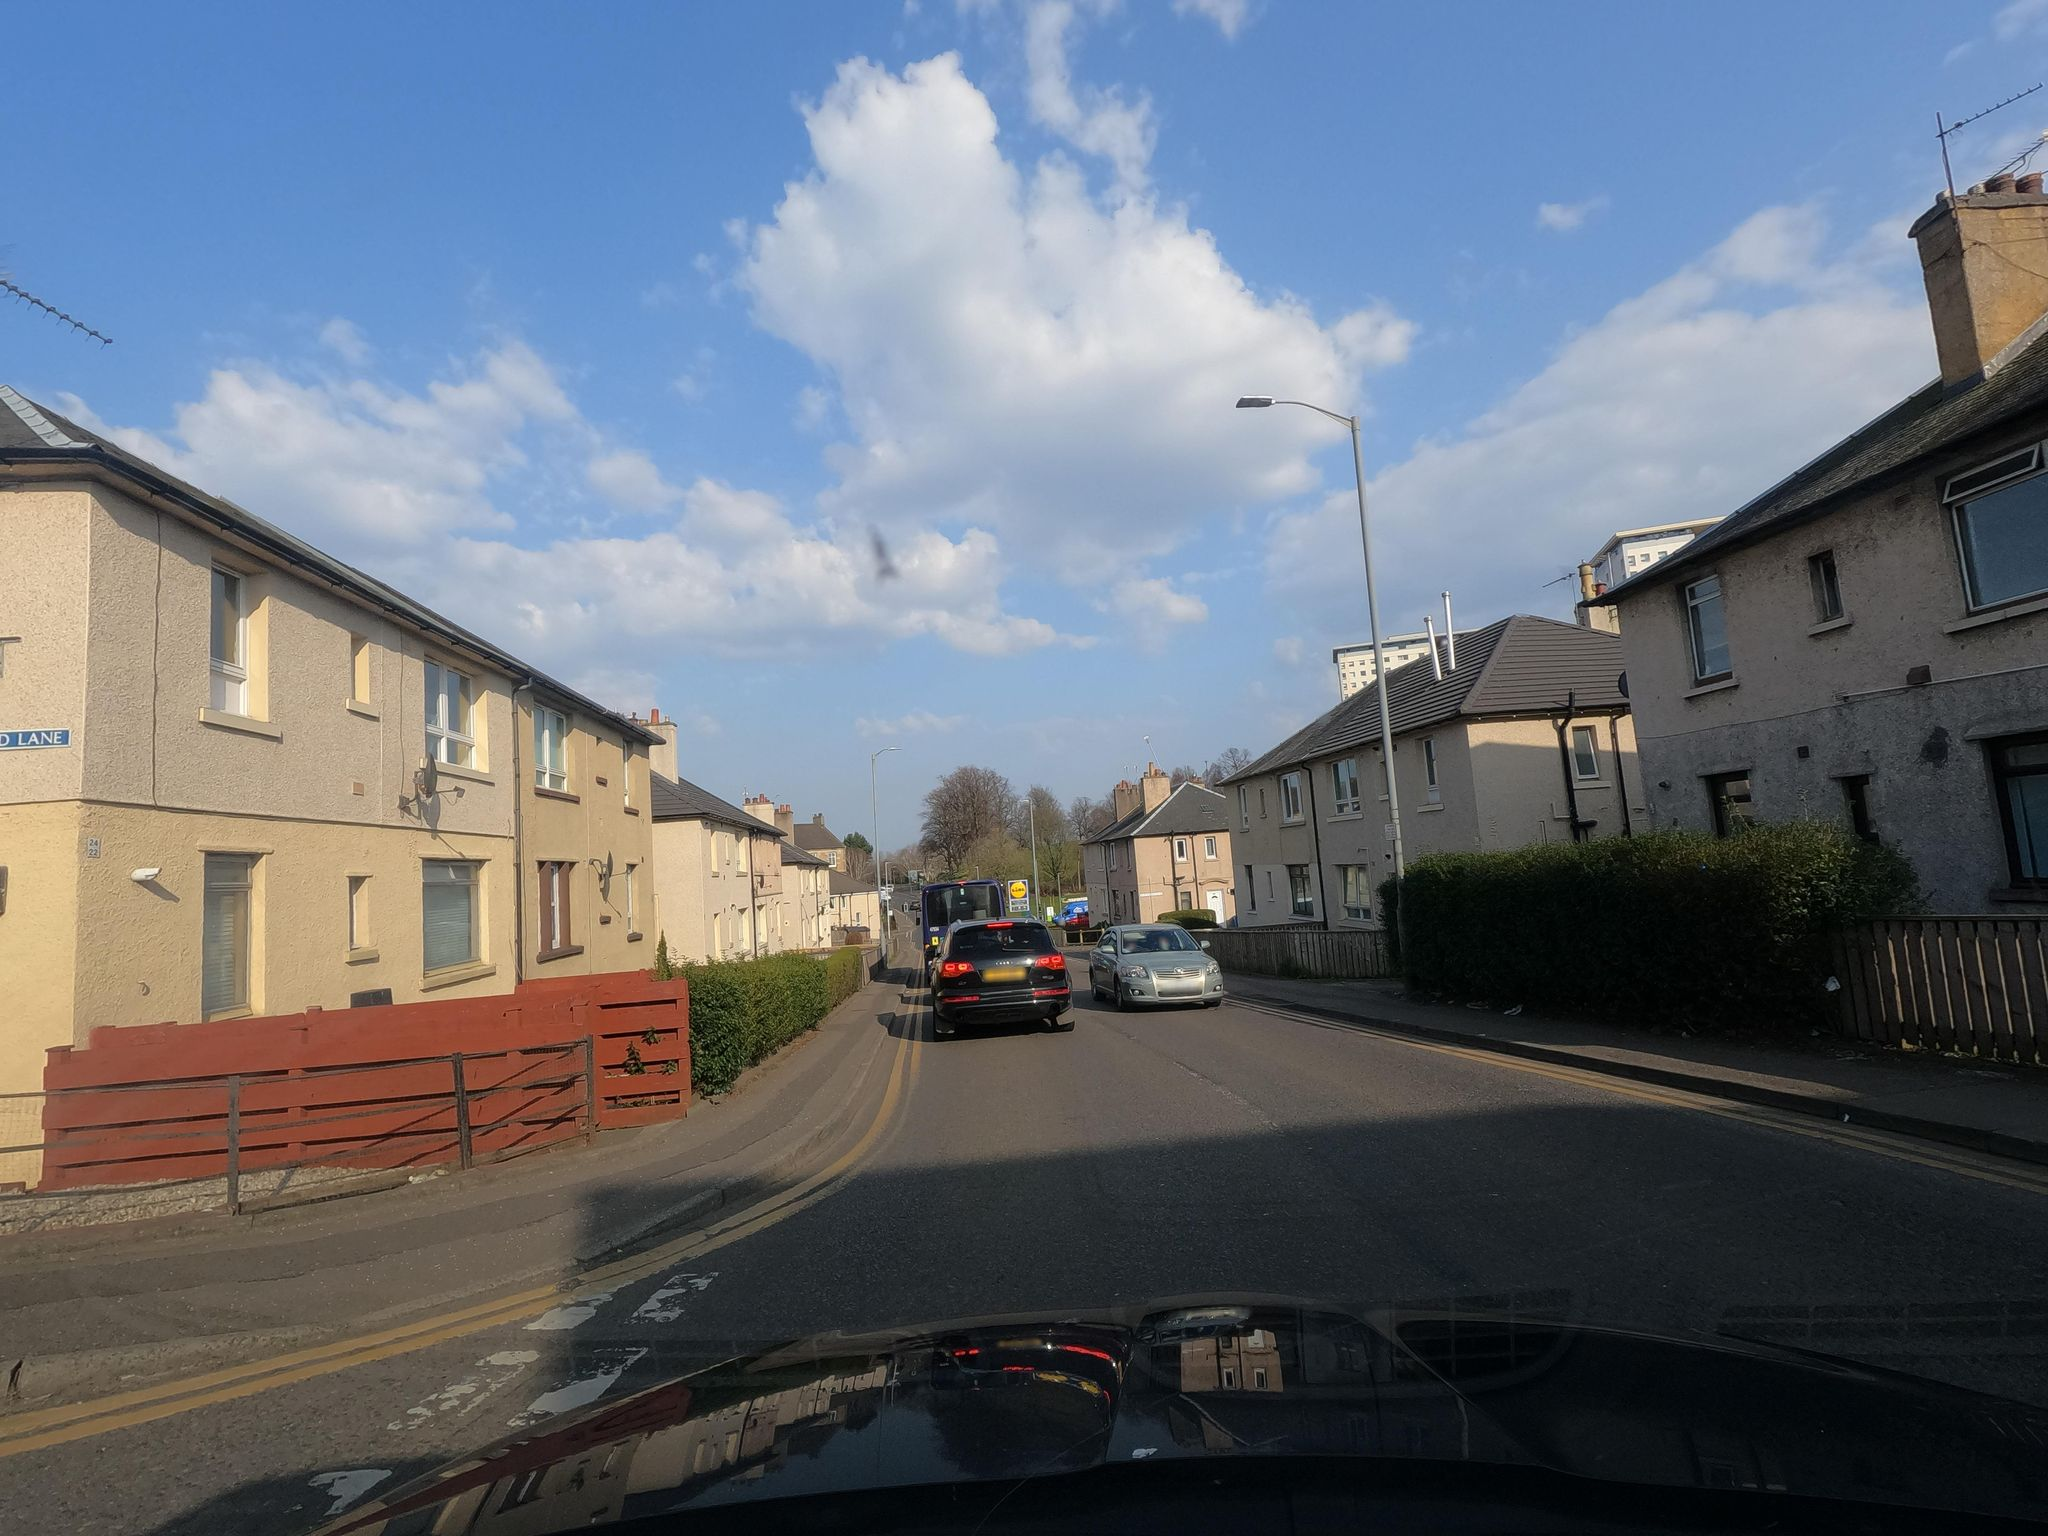bus: (916, 878, 1006, 984)
car: (922, 913, 1076, 1042), (1089, 921, 1224, 1010)
